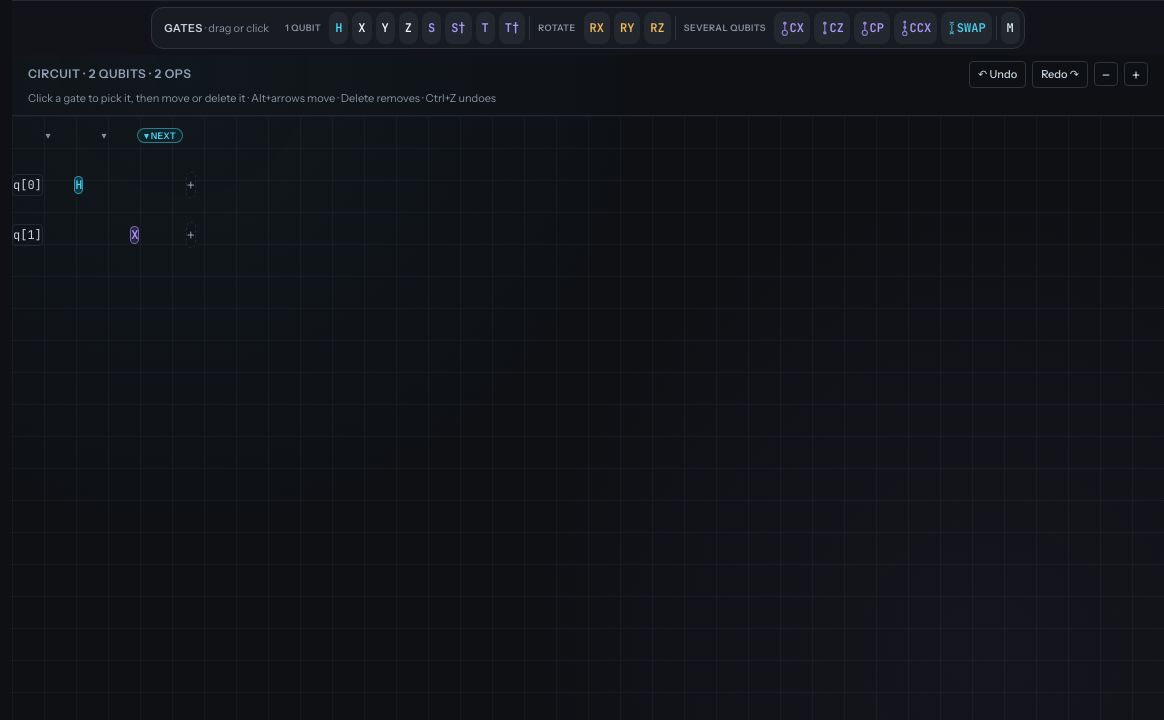
Scenario: the circuit editor is operable and named › append cells say which qubit and whether a gate is selected
Expected: the button named "Append on qubit 0 — select a gate first" is shown, x1=186 y1=172 x2=196 y2=198
Step 1. Click the button "H" next to "1 qubit" → click(339, 28), box x1=329 y1=12 x2=348 y2=44
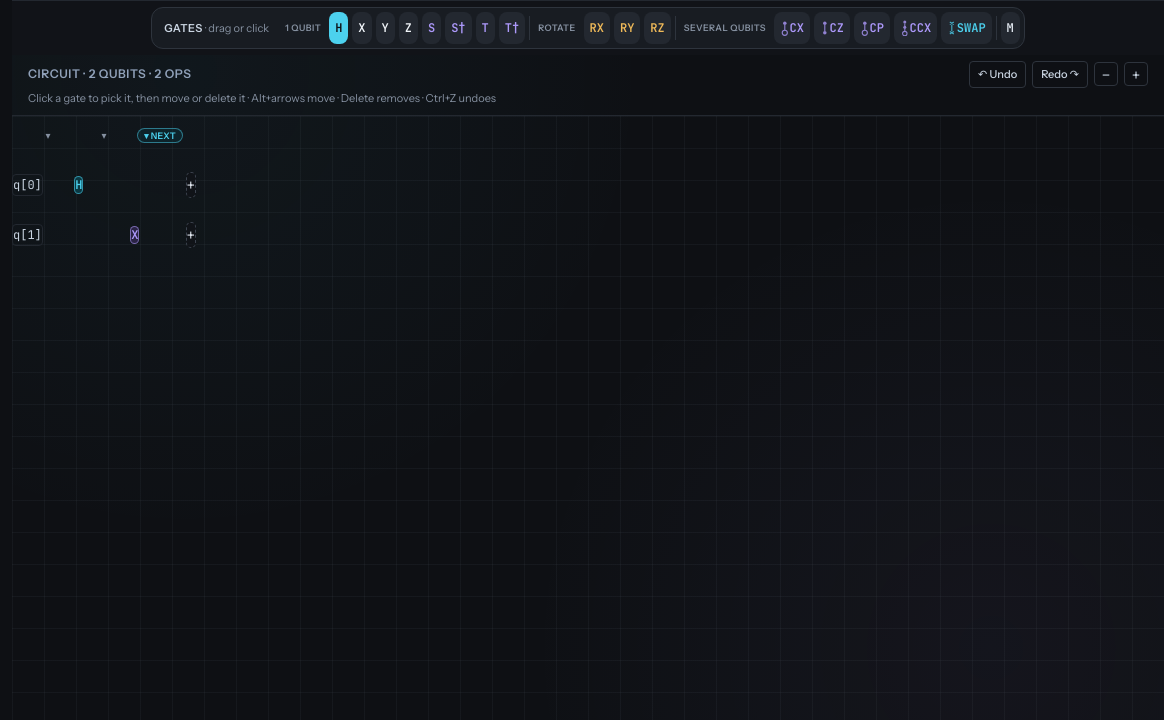
Now the button named "Place h on qubit 1" is shown, box x1=186 y1=222 x2=196 y2=248
